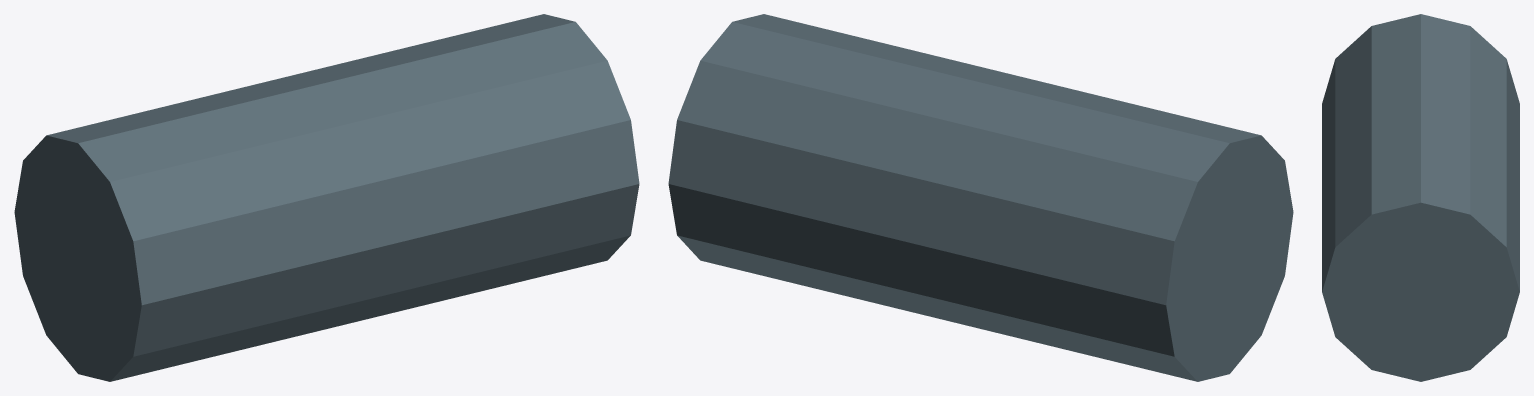
Rendered from SM_Factory_Small_pipe_1m.glb.
The picture shows the model from 3 angles, left to right: view 1: azimuth 30°, elevation 25°; view 2: azimuth 150°, elevation 25°; view 3: azimuth 270°, elevation 25°; orthographic projection. The views are drawn at different scales.
Visible parts, largest first — view 1: SM_Factory_Small_pipe_1m; view 2: SM_Factory_Small_pipe_1m; view 3: SM_Factory_Small_pipe_1m.
Boxes of the visible parts, bbox=[...] form: SM_Factory_Small_pipe_1m: bbox=[14, 14, 639, 381]; SM_Factory_Small_pipe_1m: bbox=[668, 14, 1293, 381]; SM_Factory_Small_pipe_1m: bbox=[1322, 14, 1519, 381].
Size of the model in its own units: 1 by 0.4433 by 0.4433.
1 material, 1 textured.
